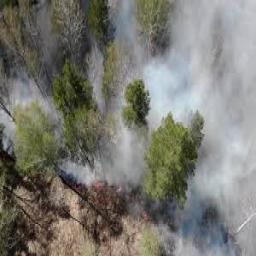Heavy smoke: (58, 0, 255, 255)
